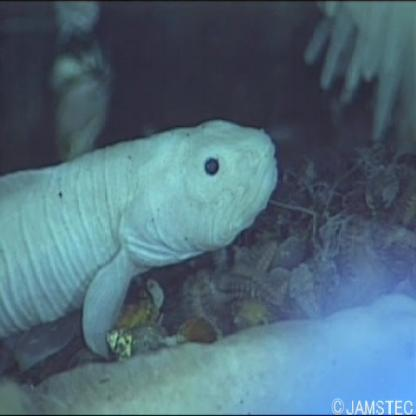Bio: (1, 114, 281, 362)
